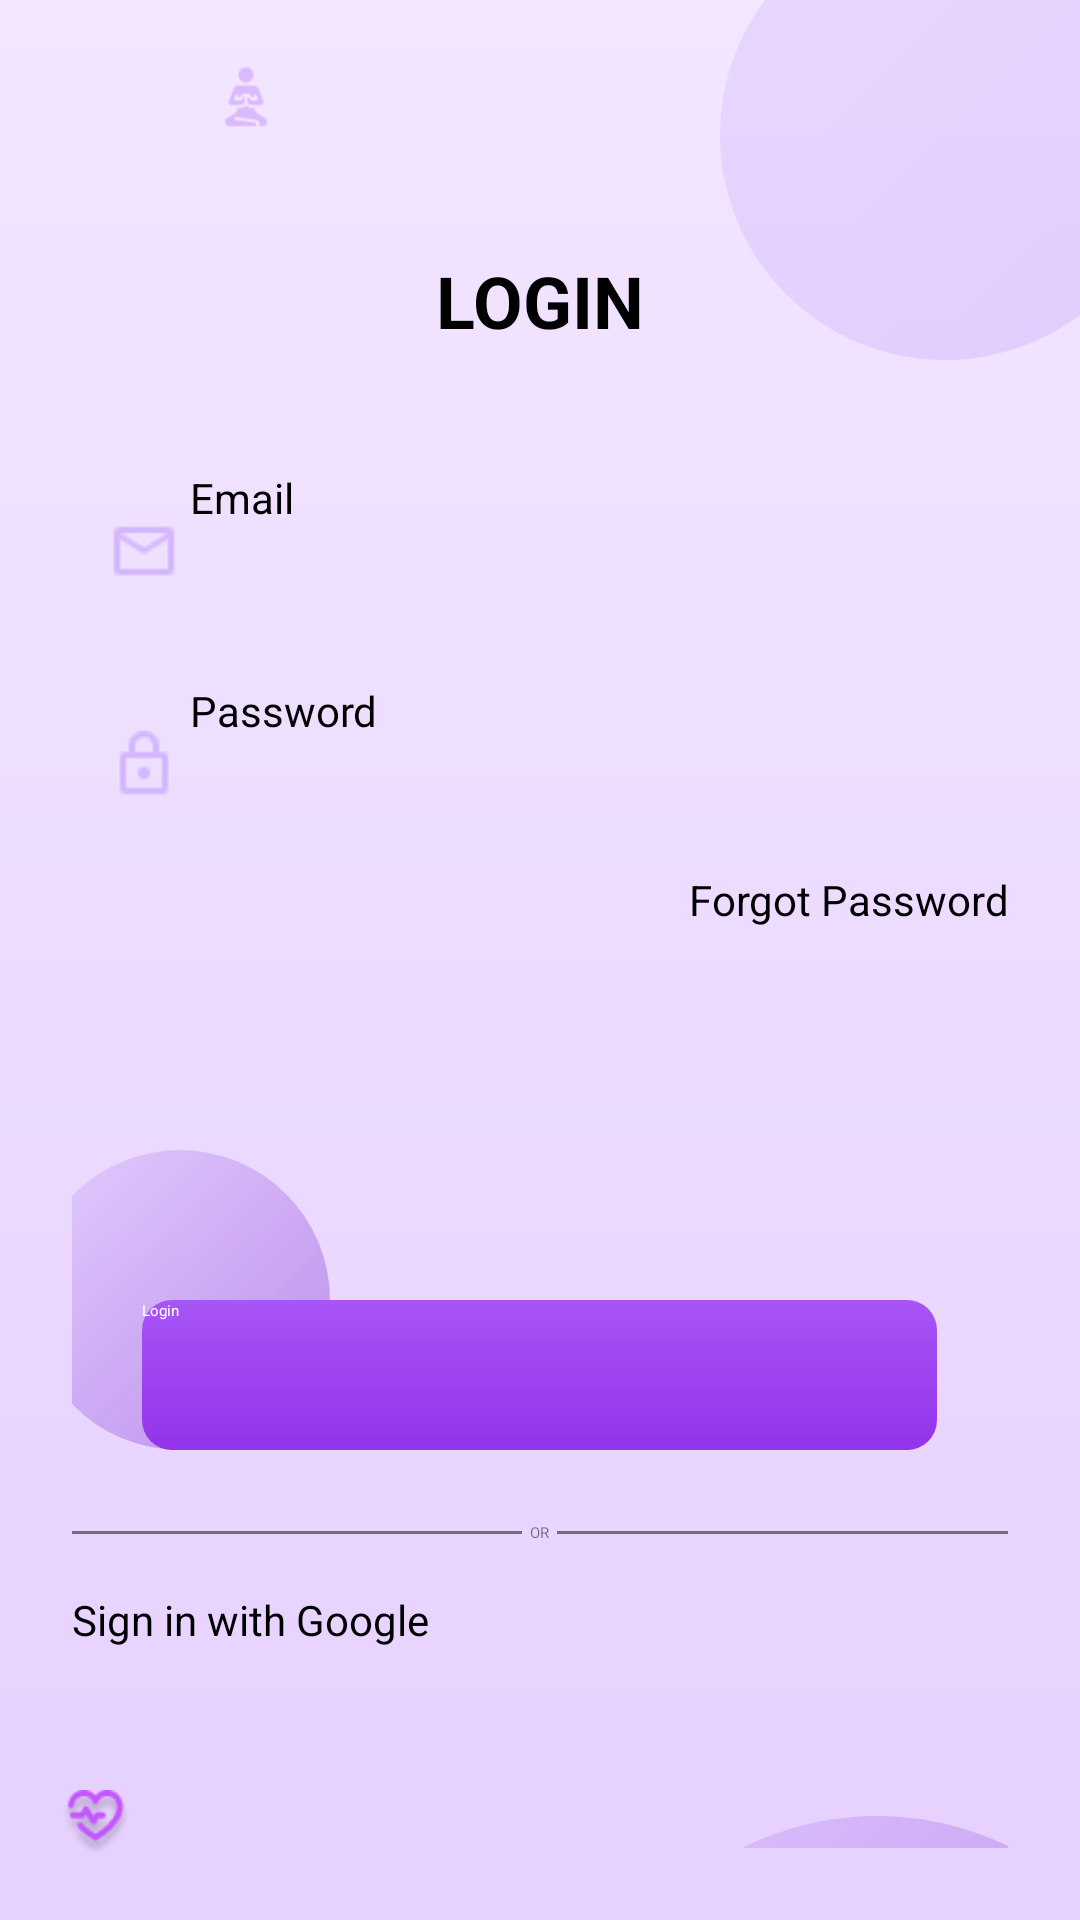

Icons on this 1080 × 1920 Android screen, each with the point to tap as [x,y]:
heart: [96,1819]
